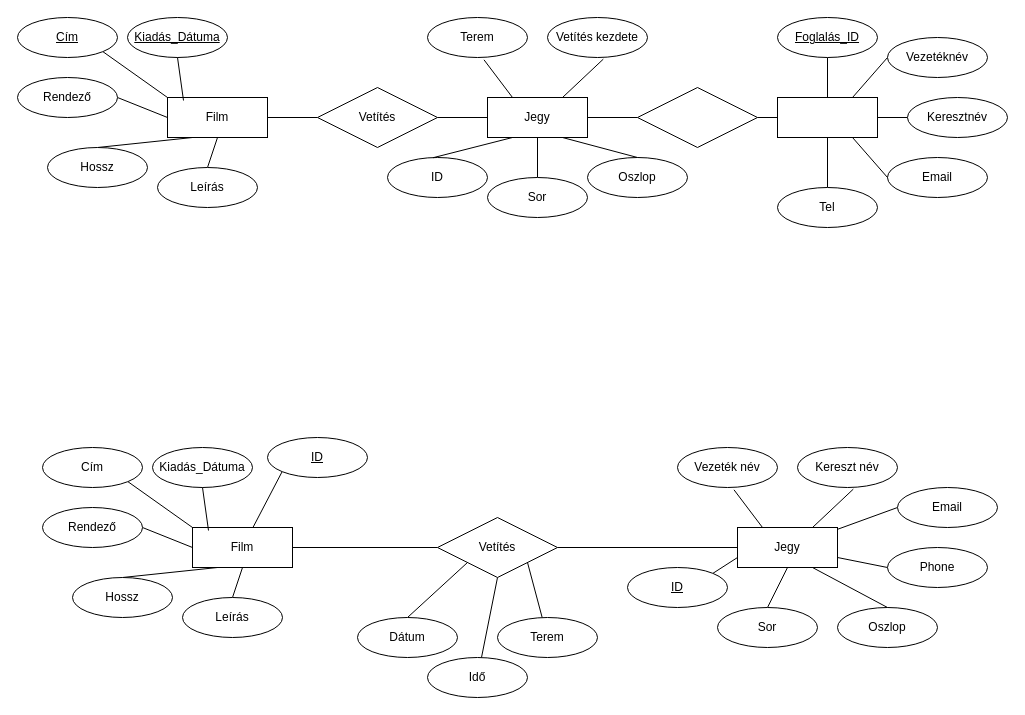
Image size: 1025x715. Some labels were removed from this diagram. The centre of each missing label's shape, as x and y in pixels:
Felhasználó: pixel 827 117
Foglalás: pixel 697 117
